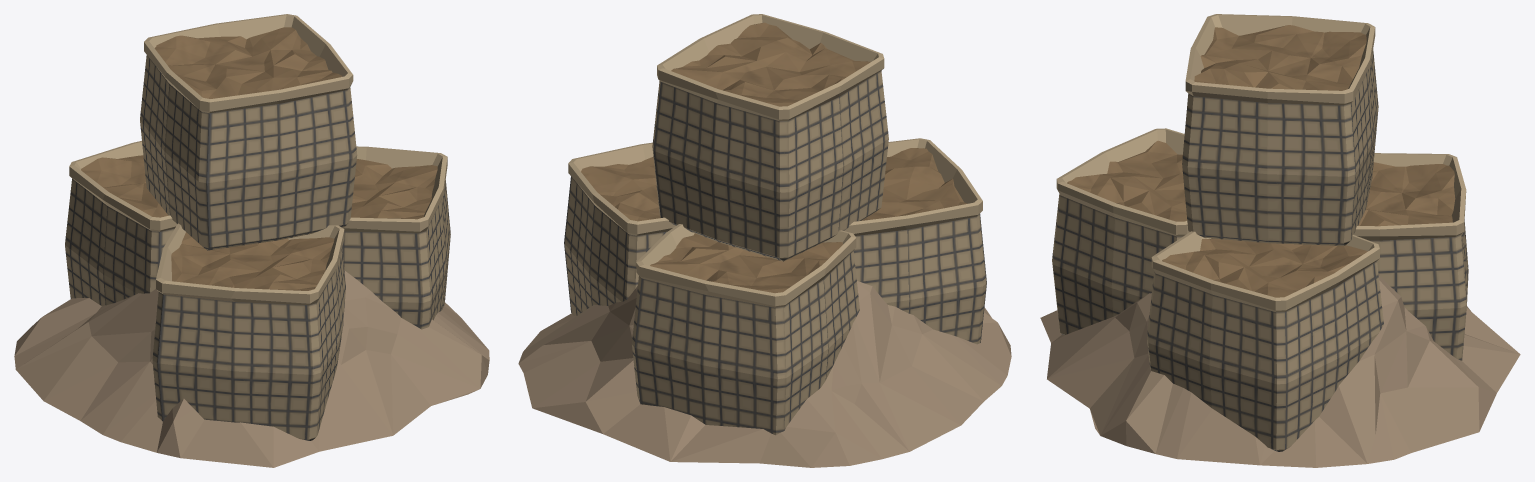
File: SM_Prop_Barrier_Base_Group_01.fbx
3 views of the same model, side by side, from view 1: azimuth 30°, elevation 25°; view 2: azimuth 150°, elevation 25°; view 3: azimuth 270°, elevation 25° (orthographic). The views are drawn at different scales.
Parts seen in each view (by area): view 1: SM_Prop_Barrier_Base_Group_01; view 2: SM_Prop_Barrier_Base_Group_01; view 3: SM_Prop_Barrier_Base_Group_01.
Boxes of the visible parts, left/top/right/bottom form: SM_Prop_Barrier_Base_Group_01: left=14, top=14, right=489, bottom=467; SM_Prop_Barrier_Base_Group_01: left=518, top=14, right=1011, bottom=467; SM_Prop_Barrier_Base_Group_01: left=1040, top=14, right=1520, bottom=467.
Bounding box in the file's own units: 296 × 212 × 297.
